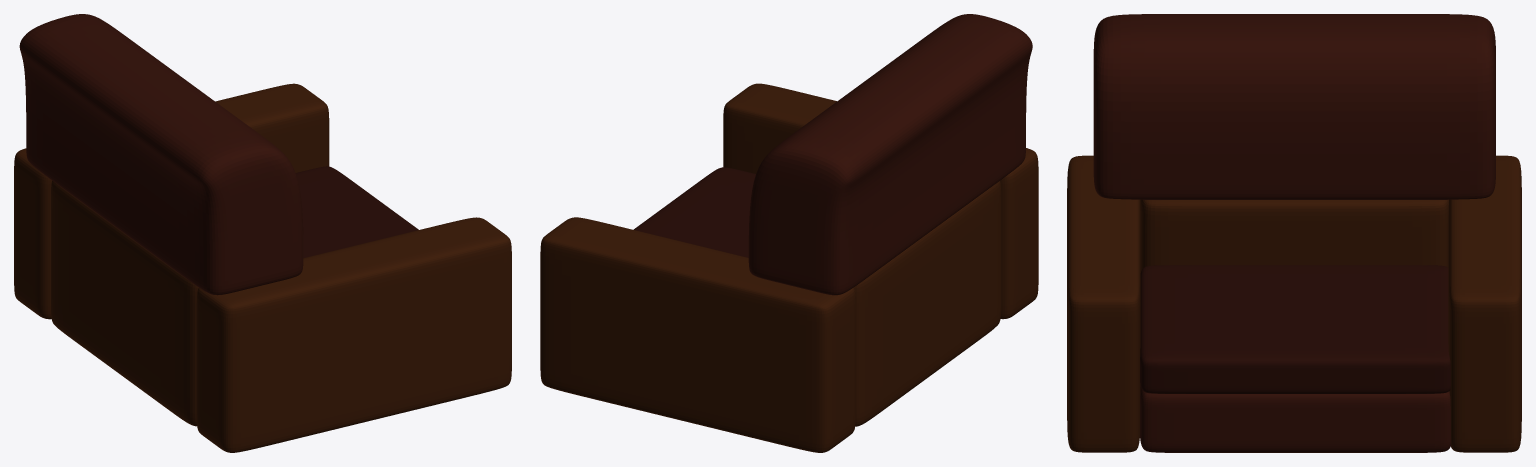
File: principal's Chair.fbx
3 renders of one model, left to right at view 1: azimuth 30°, elevation 25°; view 2: azimuth 150°, elevation 25°; view 3: azimuth 270°, elevation 25°, orthographic. The views are drawn at different scales.
Visible parts, largest first — view 1: Cube.002, Cube.006, Cube.005, Cube.001, Cube.004; view 2: Cube.001, Cube.006, Cube.005, Cube.002, Cube.004; view 3: Cube.006, Cube.004, Cube.005, Cube.002, Cube.001, Cube.
Boxes of the visible parts, bbox=[...] form: Cube.002: bbox=[196, 217, 511, 452]; Cube.006: bbox=[19, 14, 303, 295]; Cube.005: bbox=[51, 181, 198, 426]; Cube.001: bbox=[14, 83, 329, 319]; Cube.004: bbox=[295, 166, 418, 258]; Cube.001: bbox=[540, 217, 855, 452]; Cube.006: bbox=[748, 14, 1032, 295]; Cube.005: bbox=[853, 181, 1001, 426]; Cube.002: bbox=[723, 83, 1038, 319]; Cube.004: bbox=[633, 167, 755, 257]; Cube.006: bbox=[1093, 14, 1495, 199]; Cube.004: bbox=[1140, 265, 1450, 393]; Cube.005: bbox=[1140, 199, 1448, 272]; Cube.002: bbox=[1067, 155, 1140, 452]; Cube.001: bbox=[1448, 155, 1521, 452]; Cube: bbox=[1140, 385, 1450, 452].
Bounding box in the file's own units: 1022 × 951 × 1293.
